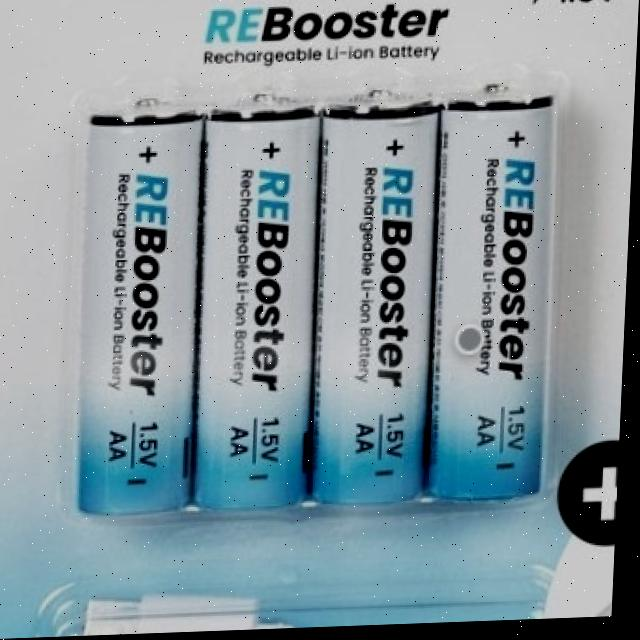battery: (188, 86, 331, 517), (423, 77, 561, 506), (73, 93, 211, 514), (304, 82, 440, 505)
